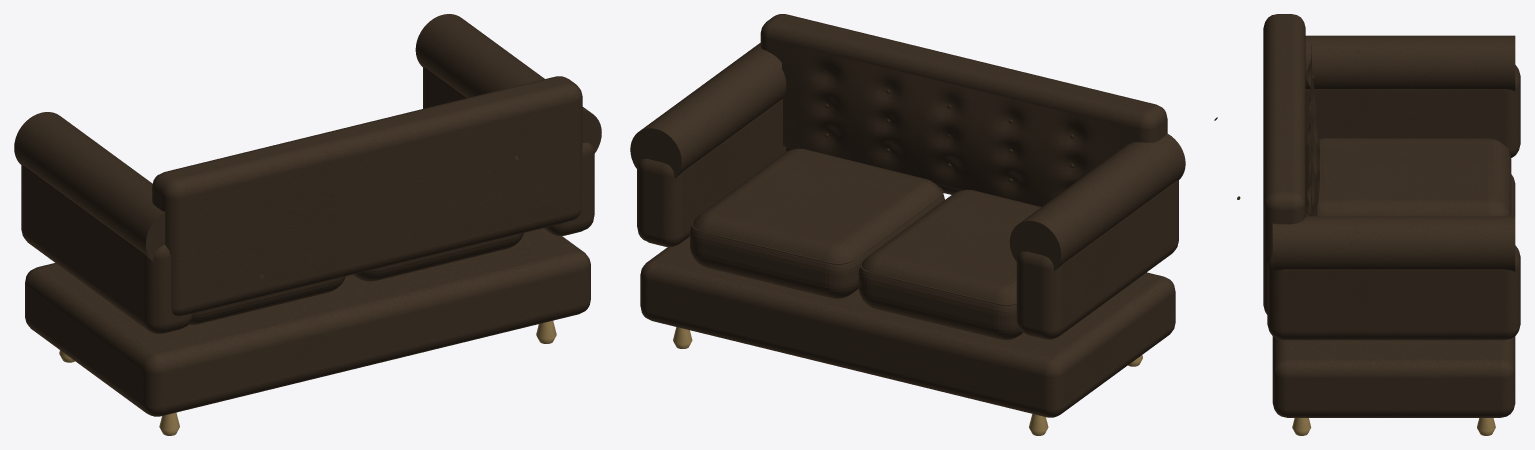
The model's file is luxury-club-two-seat.glb.
The picture shows the model from 3 angles, left to right: view 1: azimuth 30°, elevation 25°; view 2: azimuth 150°, elevation 25°; view 3: azimuth 270°, elevation 25°; orthographic projection. The views are drawn at different scales.
Visible parts, largest first — view 1: leather_0, bronze_24; view 2: leather_0, bronze_24; view 3: leather_0, bronze_24.
Boxes of the visible parts, <box> form: leather_0: <box>14,14,601,416</box>; bronze_24: <box>59,320,556,435</box>; leather_0: <box>630,14,1185,417</box>; bronze_24: <box>673,327,1142,435</box>; leather_0: <box>1214,14,1520,417</box>; bronze_24: <box>1292,418,1495,435</box>.
Size of the model in its own units: 1.84 by 1.02 by 1.16.
Materials: 2 (1 with a texture image).
